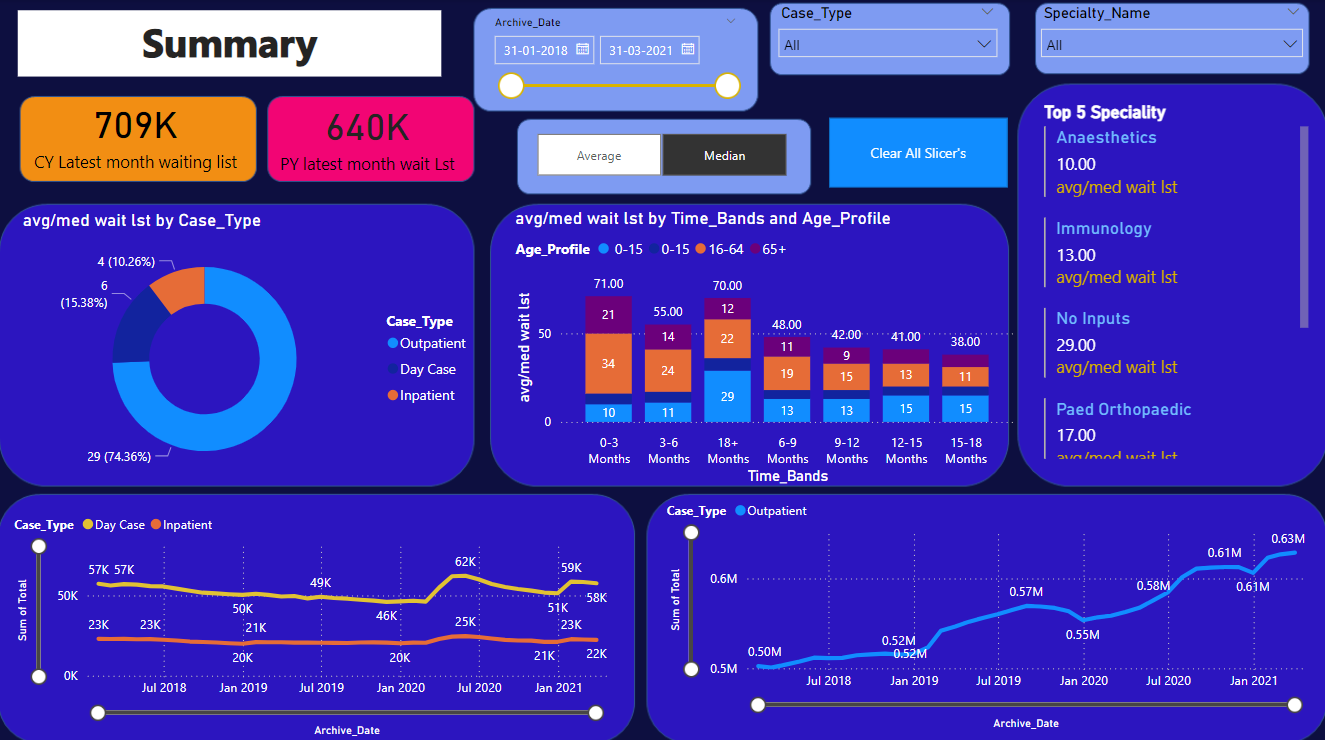

What the dashboard file says about the page in this screenshot:
{"tool":"powerbi","page":{"name":"Summary","canvas":[1280,720],"ordinal":0},"visuals":[{"type":"card","fields":{"Values":["All_Data.Latest month waiting list"]},"box":[18.5,75.1,227.7,108.3],"z":0},{"type":"card","fields":{"Values":["All_Data.PY latest month wait Lst"]},"box":[246.2,84.9,219.1,92.3],"z":1000},{"type":"slicer","fields":{"Values":["Calculation method.Calc Method "]},"box":[493.4,123.1,290.8,54.3],"z":2000},{"type":"donutChart","fields":{"Category":["All_Data.Case_Type"],"Y":["All_Data.avg/med wait lst"]},"box":[18.5,203.1,446.8,270.8],"z":3000},{"type":"columnChart","fields":{"Y":["All_Data.avg/med wait lst"],"Category":["All_Data.Time_Bands"],"Series":["All_Data.Age_Profile"]},"box":[493.4,201.5,491,271.4],"z":4000},{"type":"lineChart","fields":{"Y":["Sum(All_Data.Total)"],"Category":["All_Data.Archive_Date"],"Series":["All_Data.Case_Type"]},"box":[9.8,487.4,584.6,228.9],"z":5000},{"type":"lineChart","fields":{"Y":["Sum(All_Data.Total)"],"Category":["All_Data.Archive_Date"],"Series":["All_Data.Case_Type"]},"box":[640,473.8,640,235.1],"z":6000},{"type":"slicer","fields":{"Values":["All_Data.Archive_Date"]},"box":[465.2,11.1,258.5,103.4],"z":7000},{"type":"slicer","fields":{"Values":["All_Data.Case_Type"]},"box":[742.2,0,231.4,84.9],"z":8000},{"type":"slicer","fields":{"Values":["All_Data.Specialty_Name"]},"box":[995.7,0,273.2,65.2],"z":9000},{"type":"textbox","box":[18.1,10.9,409,63.9],"z":10000},{"type":"multiRowCard","title":"Top 5 Speciality","fields":{"Values":["All_Data.Specialty_Name","All_Data.avg/med wait lst"]},"box":[1004.3,98.5,264.6,349.5],"z":11000},{"type":"shape","box":[801.1,114.6,172.5,67.6],"z":12000}]}

Visuals, with their boxes in screenshot pixels (x1, y1, x2, y2), scaled from the page's 1280x720 canvas onto the 1325x740 screenshot:
card - All_Data.Latest month waiting list: 19:77:255:188
card - All_Data.PY latest month wait Lst: 255:87:482:182
slicer - Calculation method.Calc Method : 511:127:812:182
donutChart - All_Data.Case_Type x All_Data.avg/med wait lst: 19:209:482:487
columnChart - All_Data.avg/med wait lst x All_Data.Time_Bands: 511:207:1019:486
lineChart - Sum(All_Data.Total) x All_Data.Archive_Date: 10:501:615:736
lineChart - Sum(All_Data.Total) x All_Data.Archive_Date: 662:487:1324:729
slicer - All_Data.Archive_Date: 482:11:749:118
slicer - All_Data.Case_Type: 768:0:1008:87
slicer - All_Data.Specialty_Name: 1031:0:1314:67
textbox: 19:11:442:77
"Top 5 Speciality" multiRowCard: 1040:101:1314:460
shape: 829:118:1008:187
